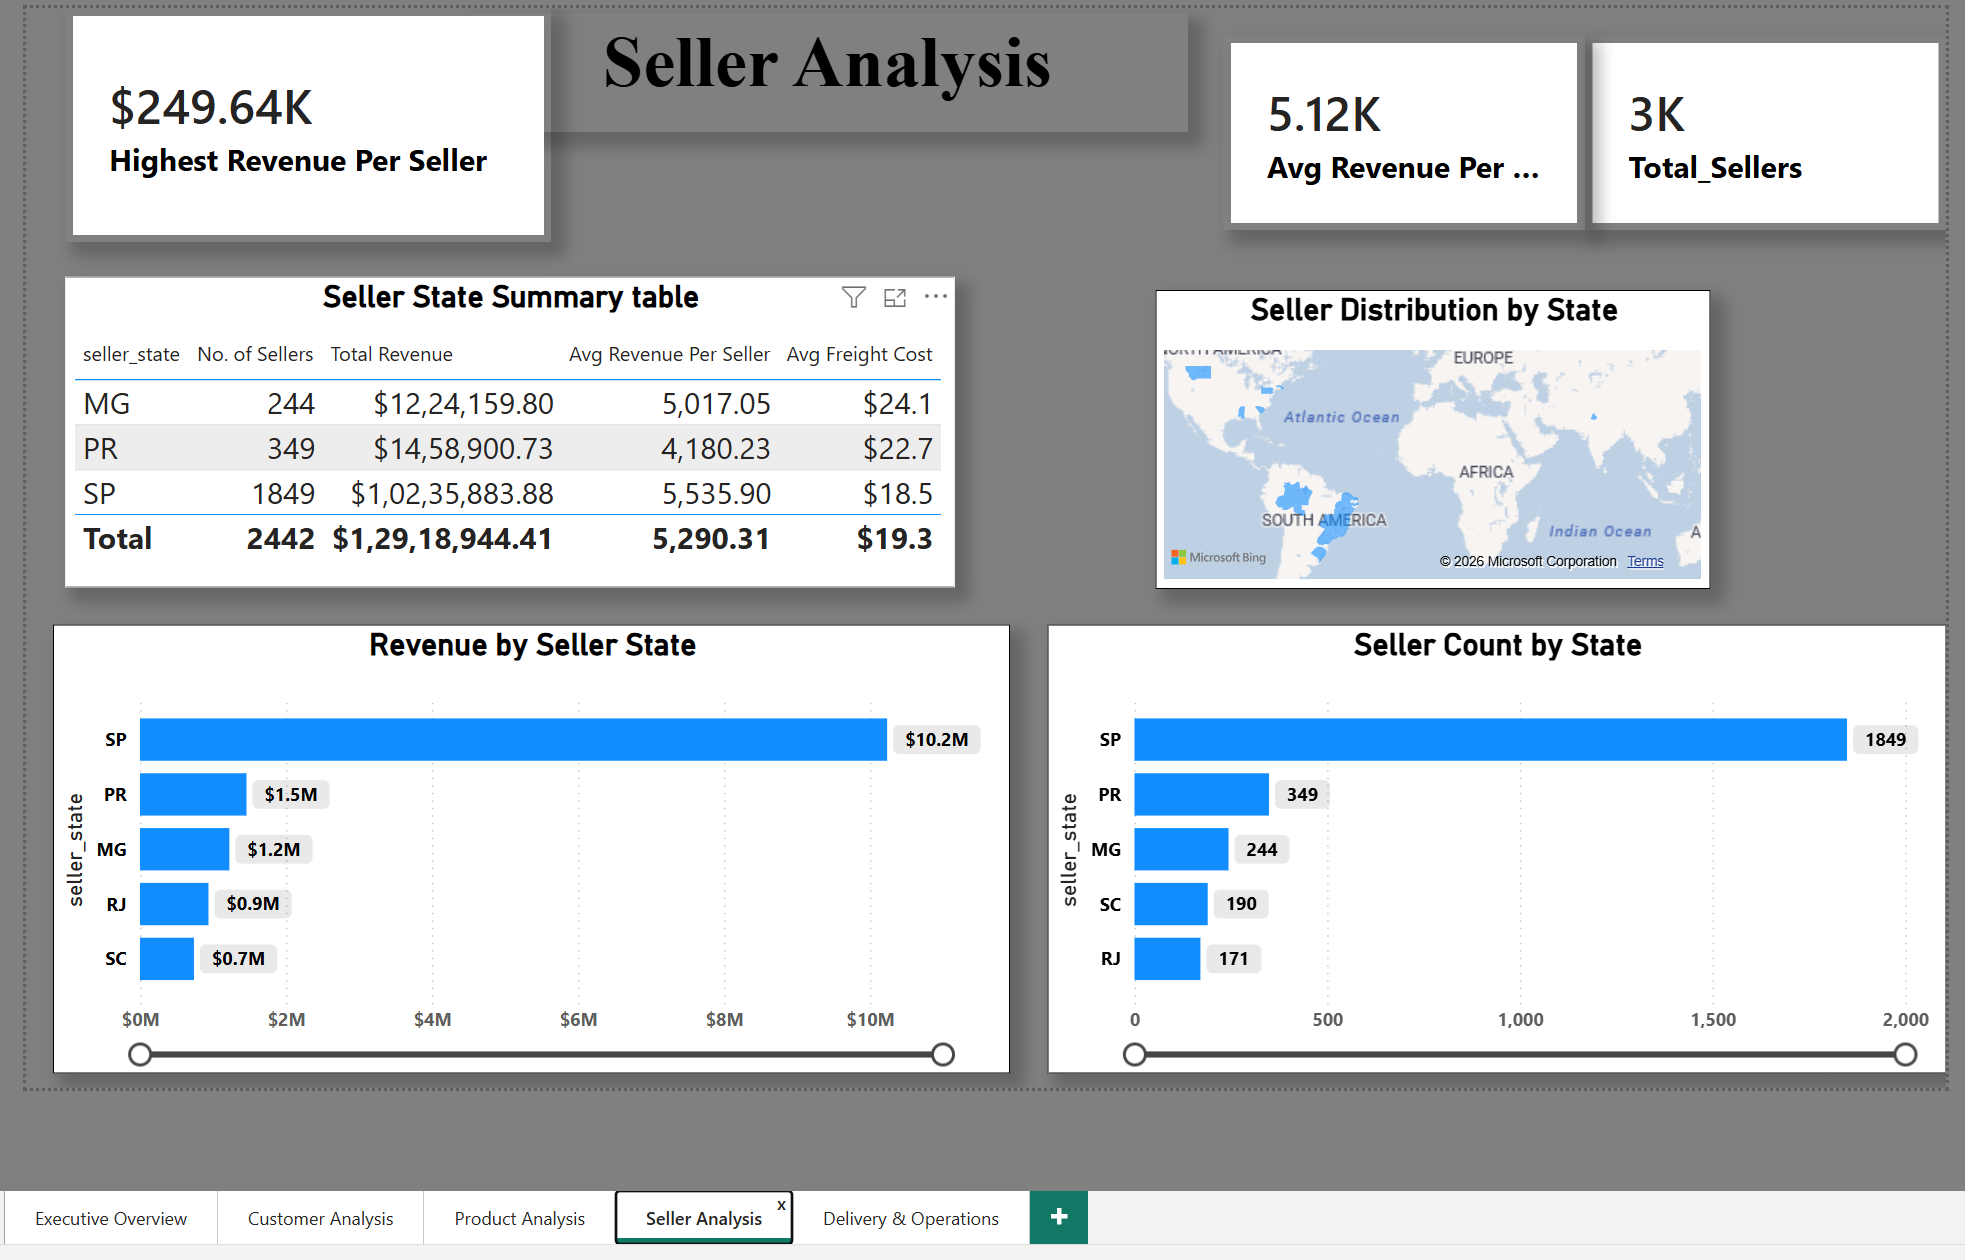

The page's visual inventory and layout, read from the dashboard file:
{"tool":"powerbi","page":{"name":"Seller Analysis","canvas":[1280,720],"ordinal":3},"visuals":[{"type":"tableEx","title":"Seller State Summary table","fields":{"Values":["GOLD dim_sellers.seller_state","GOLD dim_sellers.seller_key","new_measure.Total Revenue","new_measure.Avg Revenue Per Seller","new_measure.Avg Freight Cost"]},"box":[26.2,178.8,592.5,207.5],"z":0},{"type":"textbox","box":[292.5,2.5,482.9,80],"z":1000},{"type":"barChart","title":"Revenue by Seller State","fields":{"Category":["GOLD dim_sellers.seller_state"],"Y":["new_measure.Total Revenue"]},"box":[17.5,411.2,638.8,298.8],"z":2000},{"type":"cardVisual","fields":{"Data":["new_measure.Avg Revenue Per Seller"]},"box":[26.2,0,323.8,156.2],"z":3000},{"type":"cardVisual","fields":{"Data":["new_measure.Total_Sellers"]},"box":[1038.8,17.5,241.1,130],"z":4000},{"type":"cardVisual","fields":{"Data":["new_measure.Avg Revenue Per Seller"]},"box":[797.5,17.5,241.1,130],"z":5000},{"type":"barChart","title":"Seller Count by State","fields":{"Category":["GOLD dim_sellers.seller_state"],"Y":["CountNonNull(GOLD dim_sellers.seller_key)"]},"box":[681.2,411.2,598.8,298.8],"z":6000},{"type":"filledMap","title":"Seller Distribution by State","fields":{"Category":["GOLD dim_sellers.seller_state"]},"box":[753.3,187.8,370,198.9],"z":7000}]}

Visuals, with their boxes on the page's 1280x720 design canvas (x1, y1, x2, y2). These are canvas units, not pixel positions in the 1965x1260 screenshot, which may show the page scaled, cropped or inside an application window:
"Seller State Summary table" tableEx: [26,179,619,386]
textbox: [292,2,775,82]
"Revenue by Seller State" barChart: [18,411,656,710]
cardVisual - new_measure.Avg Revenue Per Seller: [26,0,350,156]
cardVisual - new_measure.Total_Sellers: [1039,18,1280,148]
cardVisual - new_measure.Avg Revenue Per Seller: [798,18,1039,148]
"Seller Count by State" barChart: [681,411,1280,710]
"Seller Distribution by State" filledMap: [753,188,1123,387]
